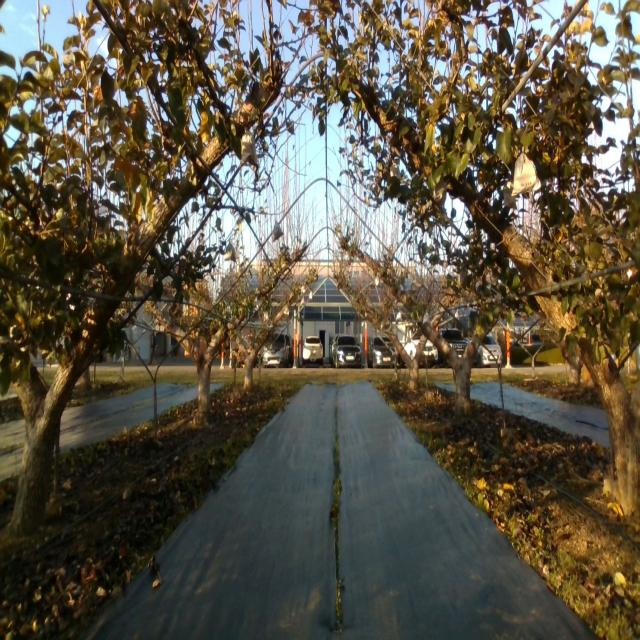pearbags: (512, 147, 542, 196), (241, 129, 259, 165), (503, 181, 516, 209), (273, 220, 283, 242), (225, 241, 236, 261)
